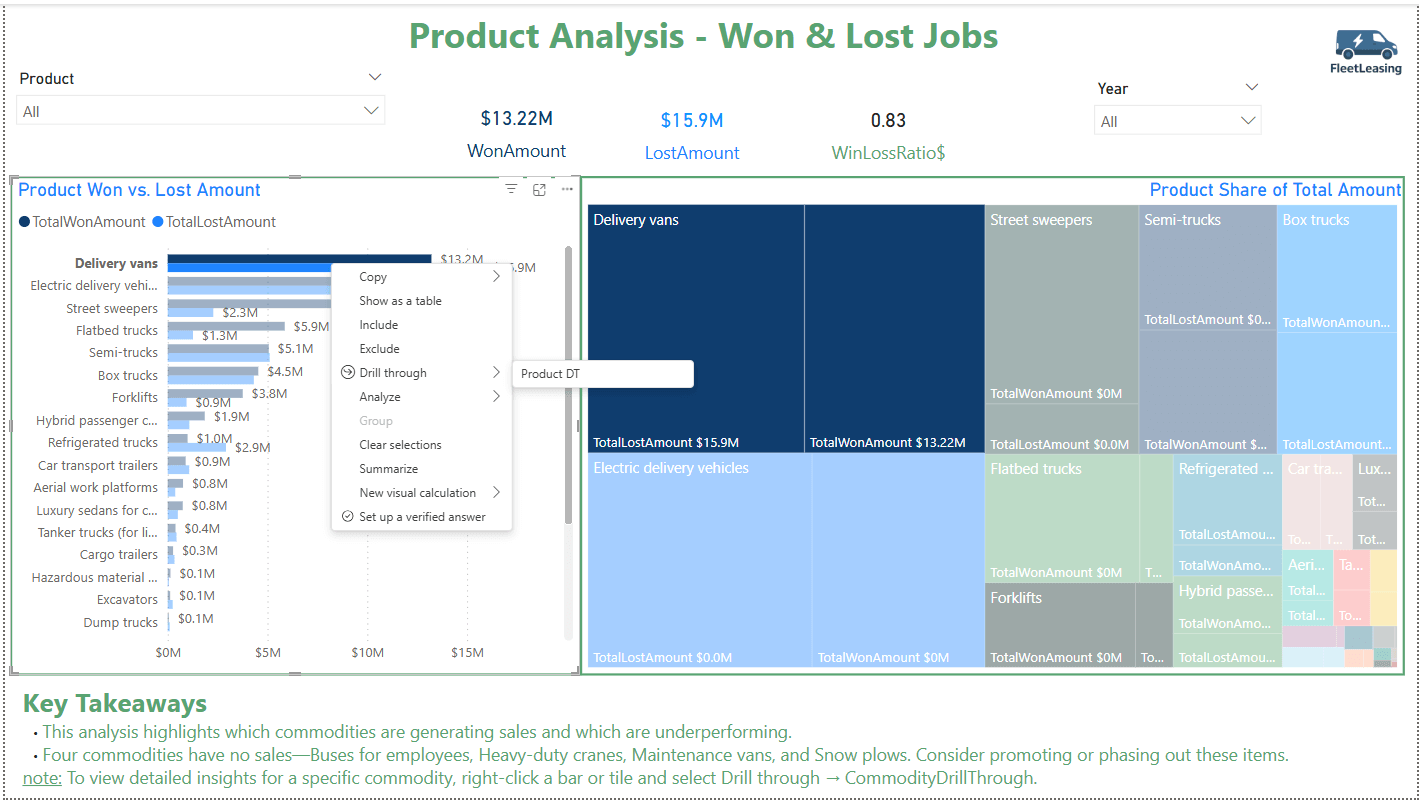

The page's visual inventory and layout, read from the dashboard file:
{"tool":"powerbi","page":{"name":"Products","canvas":[1280,720],"ordinal":1},"visuals":[{"type":"clusteredBarChart","title":"Product Won vs. Lost Amount","fields":{"Category":["WonLostPipeline.Commodity"],"Y":["_Measures.TotalWonAmount","_Measures.TotalLostAmount"]},"box":[4.9,249.6,516.4,358.5],"z":0},{"type":"treemap","title":"Product Portion to Whole","fields":{"Group":["WonLostPipeline.Commodity"],"Values":["_Measure.TotalWonAmount","_Measure.TotalLostAmount"]},"box":[532.6,249.1,737.7,361.9],"z":1000},{"type":"slicer","fields":{"Values":["Date.Date.Variation.Date Hierarchy.Year"]},"box":[975.4,8,172.3,59.3],"z":2000},{"type":"slicer","fields":{"Values":["WonLostPipeline.Commodity"]},"box":[0,8,354.8,77.6],"z":3000},{"type":"card","fields":{"Values":["_Measures.WinLossRatio_WithIcon"]},"box":[731.3,149.3,115.3,63.8],"z":4000},{"type":"card","fields":{"Values":["_Measure.TotalLostAmount"]},"box":[553.4,148.1,114.1,65],"z":5000},{"type":"card","fields":{"Values":["_Measure.TotalWonAmount"]},"box":[394.2,149,115.2,68],"z":6000},{"type":"textbox","box":[375.8,1.1,545.5,53.7],"z":7000},{"type":"textbox","box":[11,610.8,1258.5,109.2],"z":8000},{"type":"image","box":[1188.6,1,91.4,93.4],"z":9000},{"type":"shape","box":[12.5,134.6,1258.3,12.5],"z":10000},{"type":"pageNavigator","box":[47.9,79.9,1202.4,49.1],"z":11000},{"type":"bookmarkNavigator","box":[4.9,226.4,309.6,23.3],"z":14000},{"type":"bookmarkNavigator","box":[532.3,226.4,309.6,23.3],"z":15000},{"type":"shape","box":[521.9,249.1,10.7,366.2],"z":16000},{"type":"shape","box":[7.6,608.9,1265.9,12.7],"z":17000}]}

Visuals, with their boxes in screenshot pixels (x1, y1, x2, y2), scaled from the page's 1280x720 canvas onto the 1419x802 screenshot:
"Product Won vs. Lost Amount" clusteredBarChart: left=5, top=278, right=578, bottom=677
"Product Portion to Whole" treemap: left=590, top=277, right=1408, bottom=681
slicer - Date.Date.Variation.Date Hierarchy.Year: left=1081, top=9, right=1272, bottom=75
slicer - WonLostPipeline.Commodity: left=0, top=9, right=393, bottom=95
card - _Measures.WinLossRatio_WithIcon: left=811, top=166, right=939, bottom=237
card - _Measure.TotalLostAmount: left=613, top=165, right=740, bottom=237
card - _Measure.TotalWonAmount: left=437, top=166, right=565, bottom=242
textbox: left=417, top=1, right=1021, bottom=61
textbox: left=12, top=680, right=1407, bottom=801
image: left=1318, top=1, right=1418, bottom=105
shape: left=14, top=150, right=1409, bottom=164
pageNavigator: left=53, top=89, right=1386, bottom=144
bookmarkNavigator: left=5, top=252, right=349, bottom=278
bookmarkNavigator: left=590, top=252, right=933, bottom=278
shape: left=579, top=277, right=590, bottom=685
shape: left=8, top=678, right=1412, bottom=692
